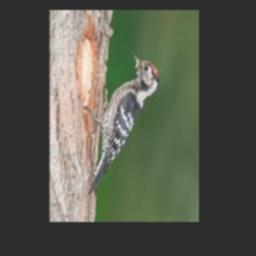Woodpecker: (84, 51, 160, 193)
